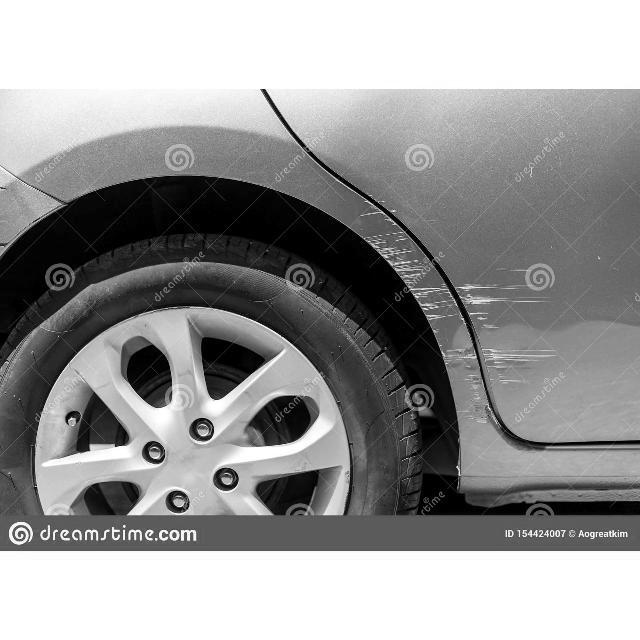doorouter-dent: (374, 89, 640, 449)
fender-dent: (3, 94, 483, 437)
